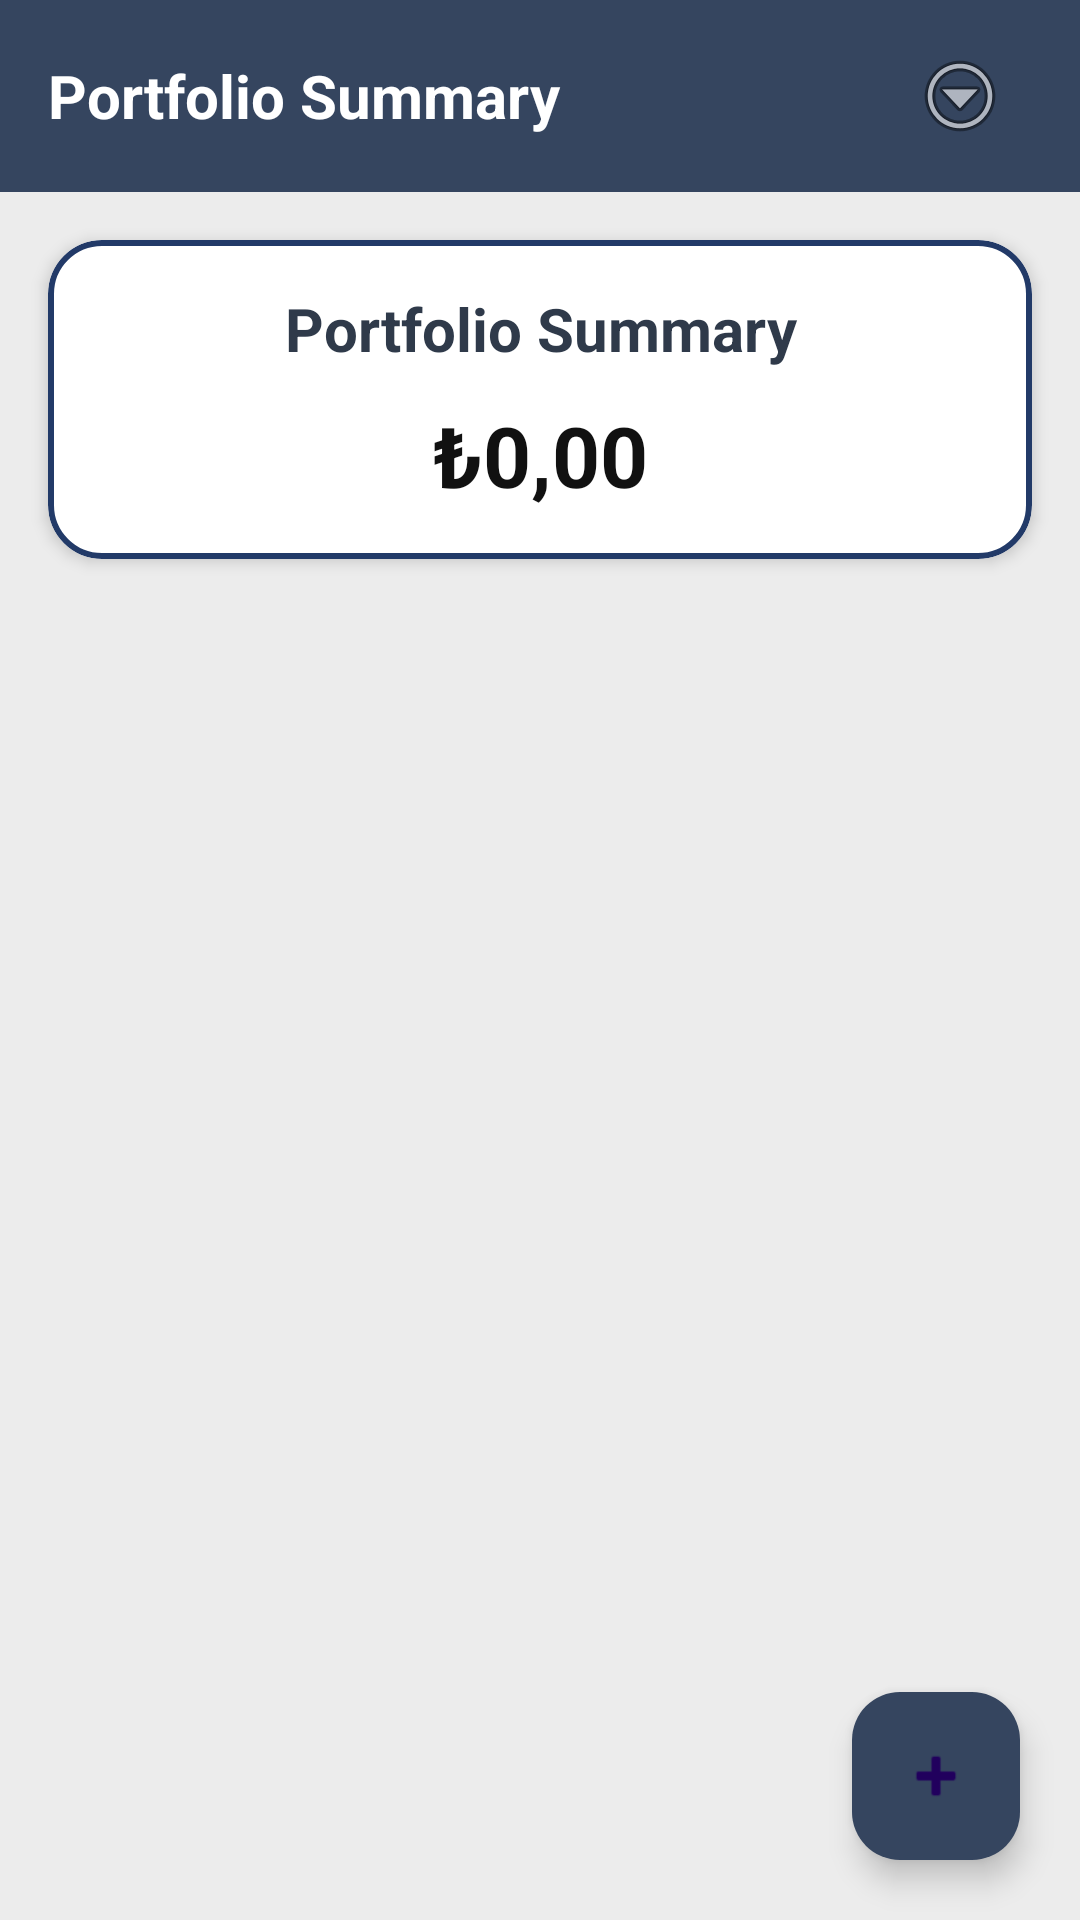

Screen size 1080×1920. Icon name, then its box in pixels as [x1=x1, y1=y1, x2=x2, y2=y2]:
Add Transaction: [x1=852, y1=1692, x2=1020, y2=1860]
Portfolio menu: [x1=925, y1=61, x2=995, y2=131]
